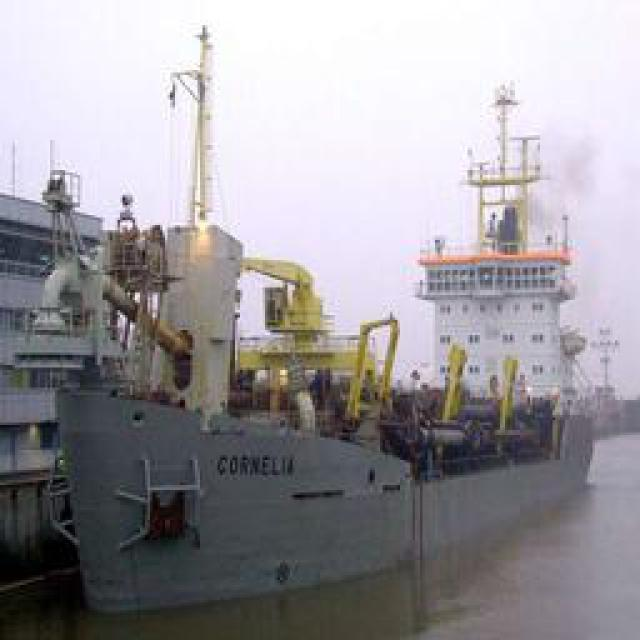Ship: (51, 25, 640, 616)
